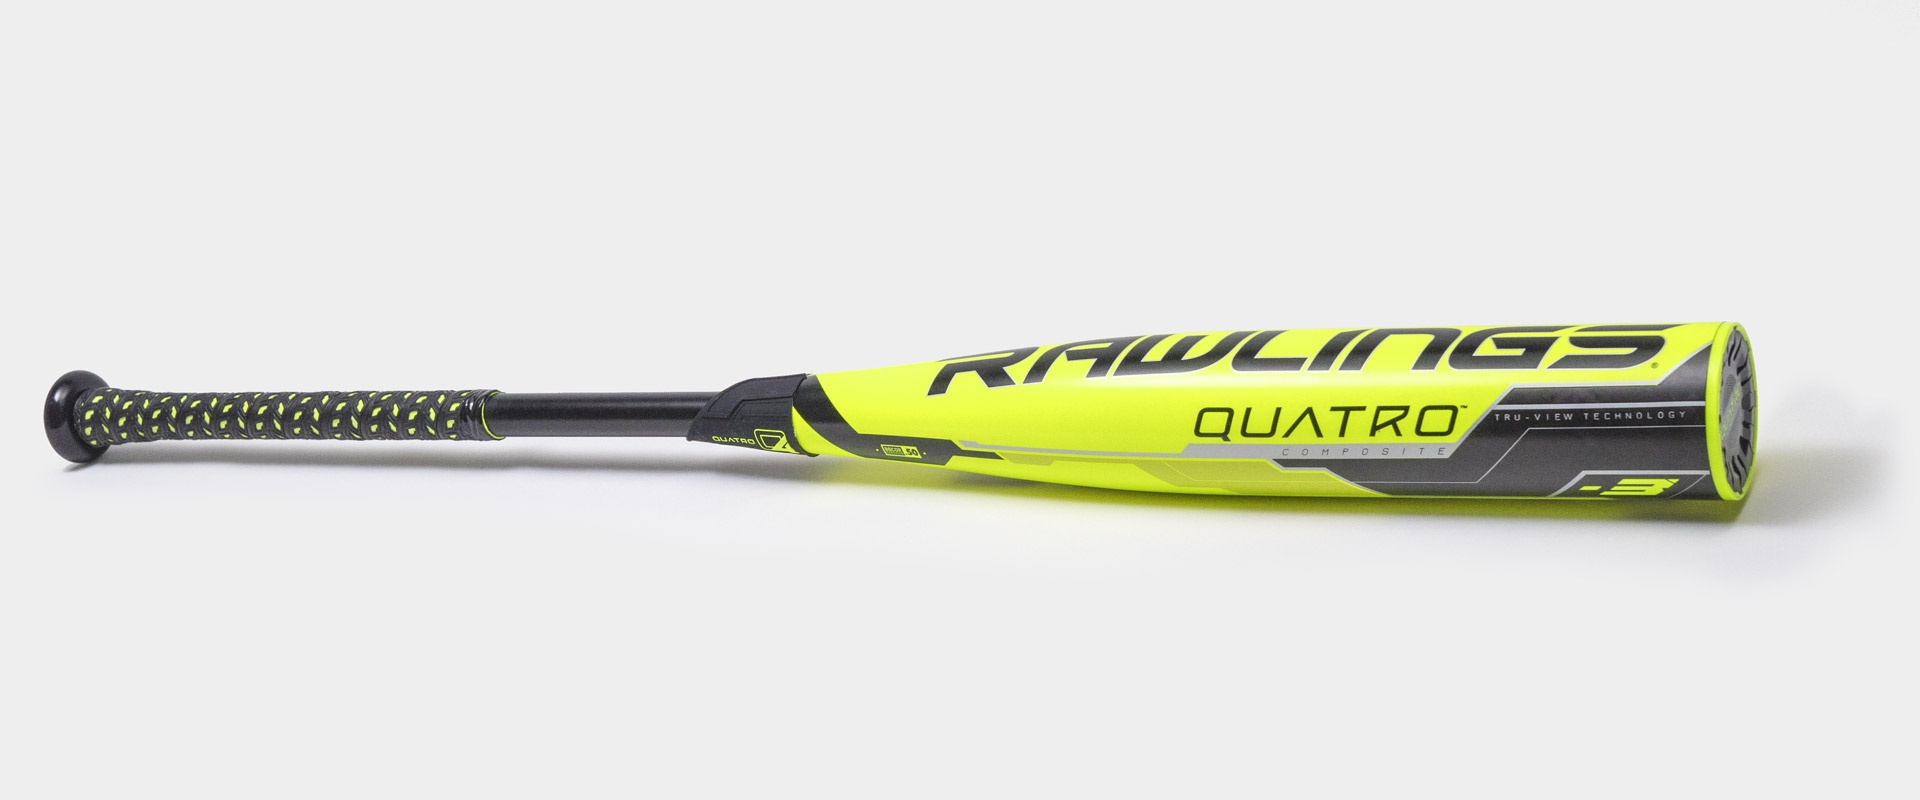bita: (71, 320, 1746, 510)
